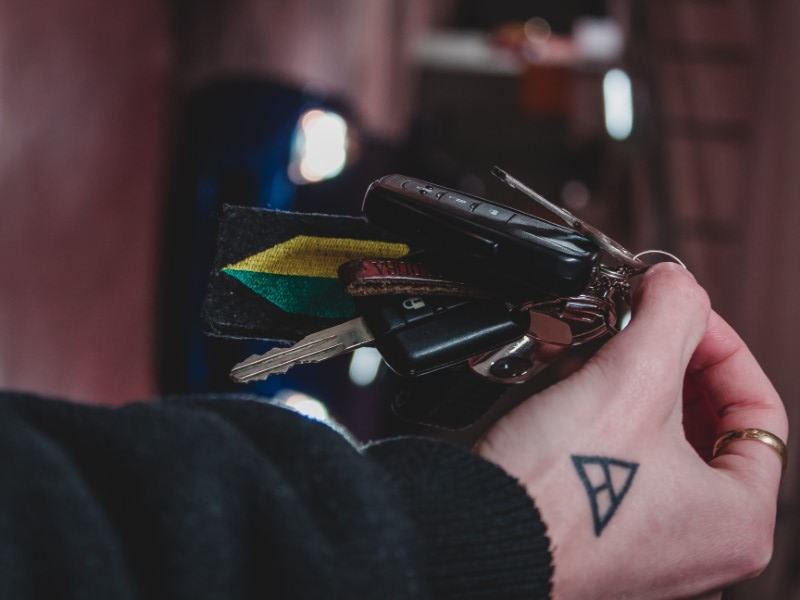carkey: (225, 267, 542, 395), (362, 160, 608, 294)
